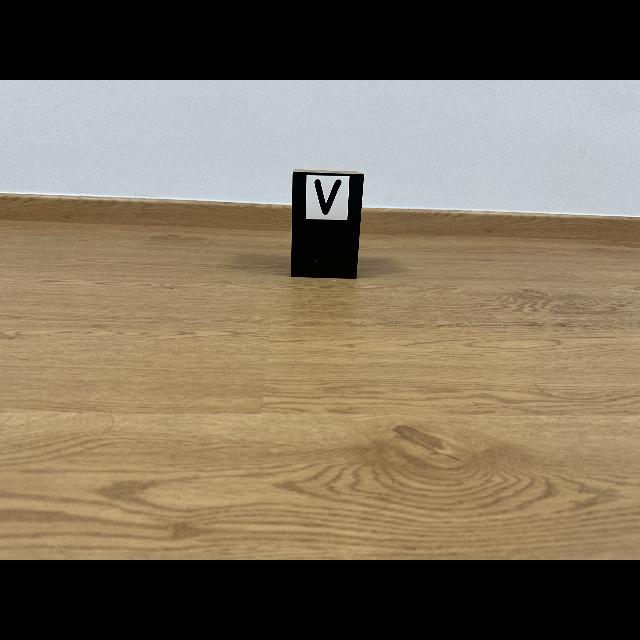V: (315, 179, 341, 215)
